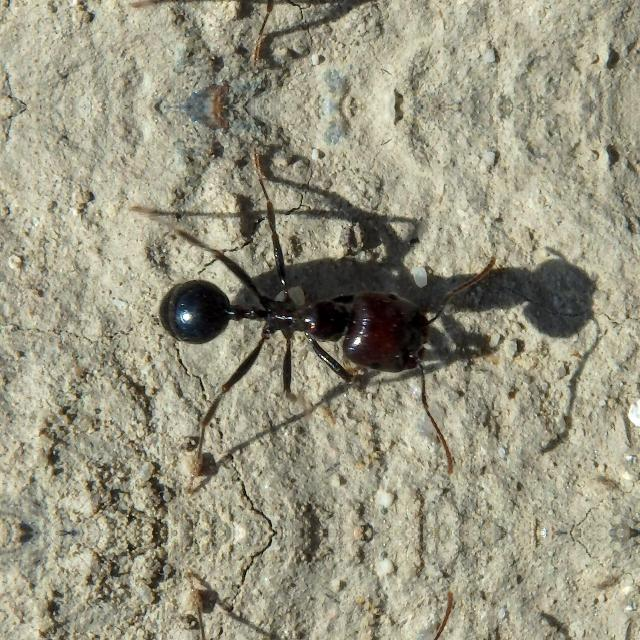Messor: (144, 250, 436, 398)
